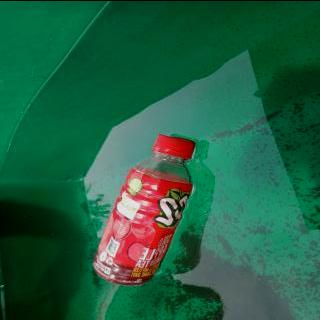bottle: (90, 134, 196, 285)
